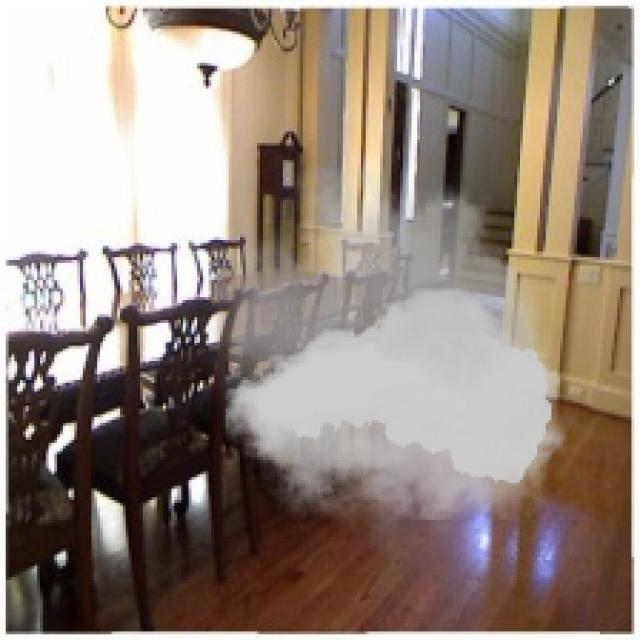smoke: (200, 143, 577, 551)
